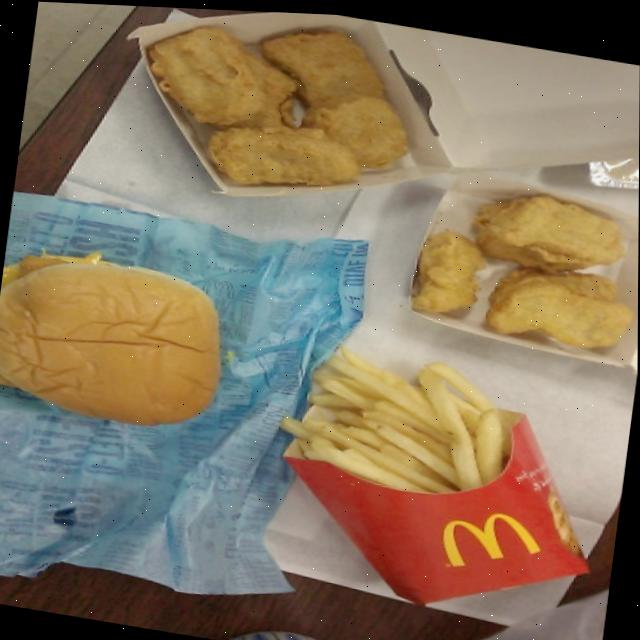汉堡快餐: (0, 245, 239, 445)
炸货点心: (267, 330, 617, 630)
